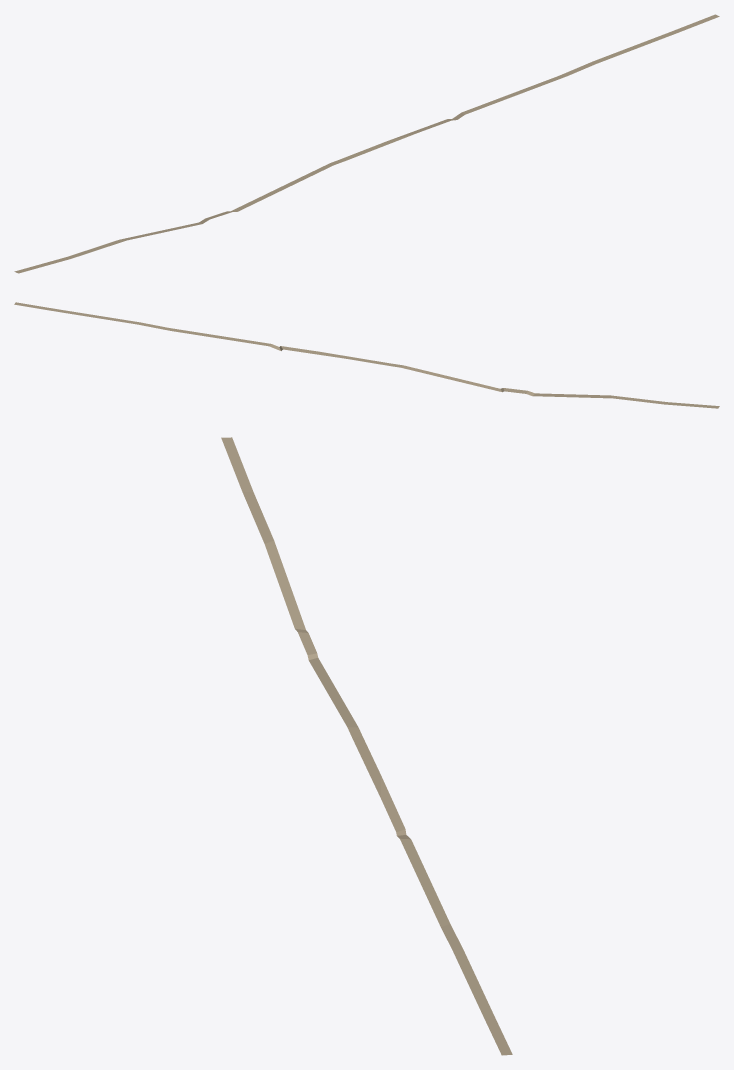
The model's file is farm_-8_2_track.glb.
The picture shows the model from 3 angles, top to bottom: view 1: azimuth 30°, elevation 25°; view 2: azimuth 150°, elevation 25°; view 3: azimuth 270°, elevation 25°; orthographic projection. The views are drawn at different scales.
Visible parts, largest first — view 1: geometry_0; view 2: geometry_0; view 3: geometry_0.
Boxes of the visible parts, x1=… form: geometry_0: x1=14, y1=14, x2=719, y2=273; geometry_0: x1=14, y1=302, x2=719, y2=408; geometry_0: x1=221, y1=437, x2=512, y2=1055.
Size of the model in its own units: 428 by 10.34 by 85.18.
